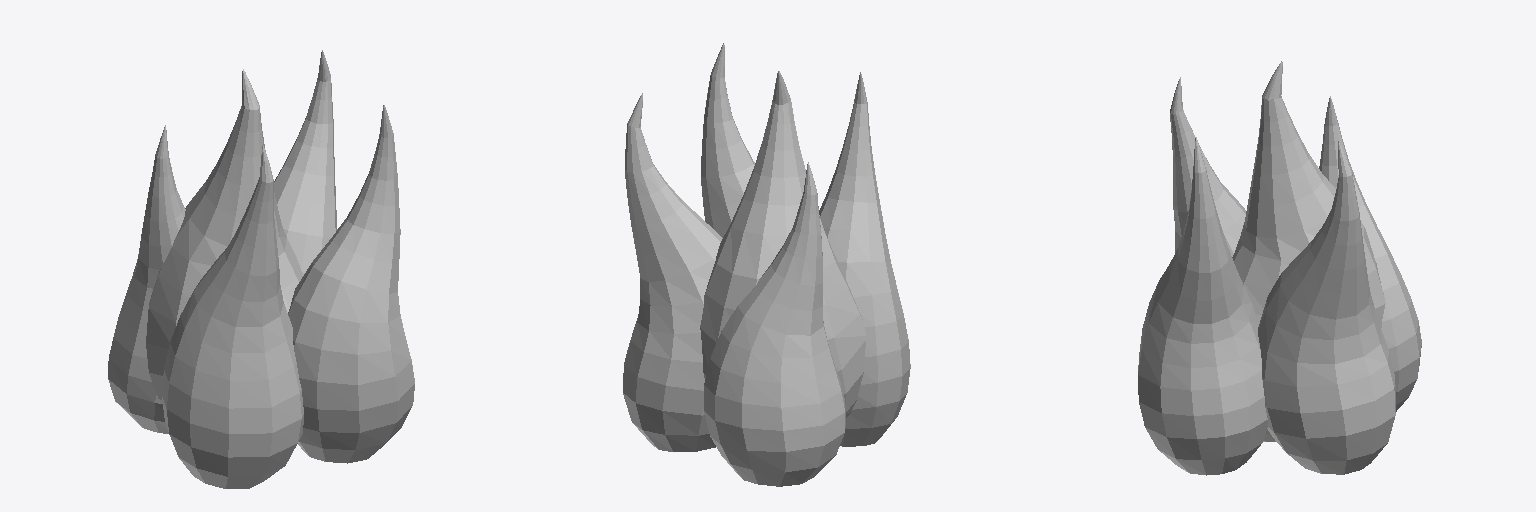
The model's file is fire_000028.obj.
3 views of the same model, side by side, from view 1: azimuth 30°, elevation 25°; view 2: azimuth 150°, elevation 25°; view 3: azimuth 270°, elevation 25° (orthographic).
Parts seen in each view (by area): view 1: flame_NurbsPath.015; view 2: flame_NurbsPath.015; view 3: flame_NurbsPath.015.
Boxes of the visible parts, x1,y1,x2,y2 form: flame_NurbsPath.015: [108, 50, 414, 488]; flame_NurbsPath.015: [623, 43, 910, 486]; flame_NurbsPath.015: [1138, 61, 1421, 475].
Bounding box in the file's own units: 0.7394 × 1.2 × 0.8128.